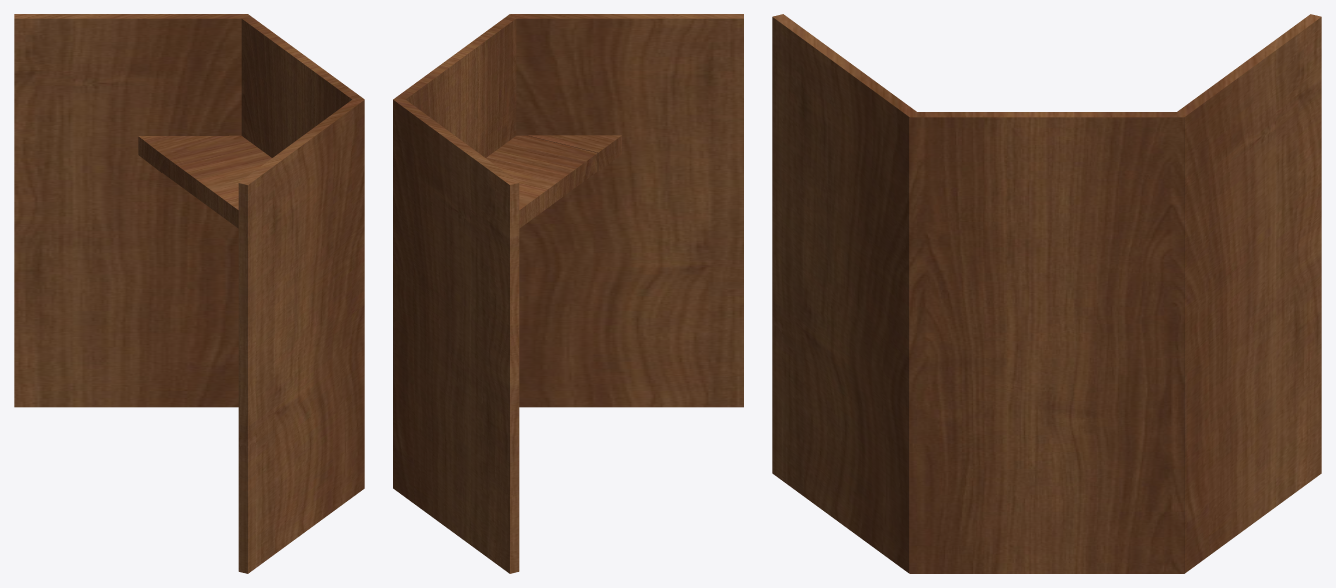
The model's file is atrio 1.fbx.
The picture shows the model from 3 angles, left to right: view 1: azimuth 30°, elevation 25°; view 2: azimuth 150°, elevation 25°; view 3: azimuth 270°, elevation 25°; orthographic projection. The views are drawn at different scales.
Parts seen in each view (by area): view 1: atrio; view 2: atrio; view 3: atrio.
Boxes of the visible parts, x1,y1,x2,y2 form: atrio: [14, 14, 364, 573]; atrio: [393, 14, 743, 573]; atrio: [772, 14, 1321, 573].
Bounding box in the file's own units: 134 × 275 × 300.
